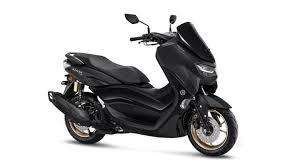motorcycle: (43, 7, 242, 160)
